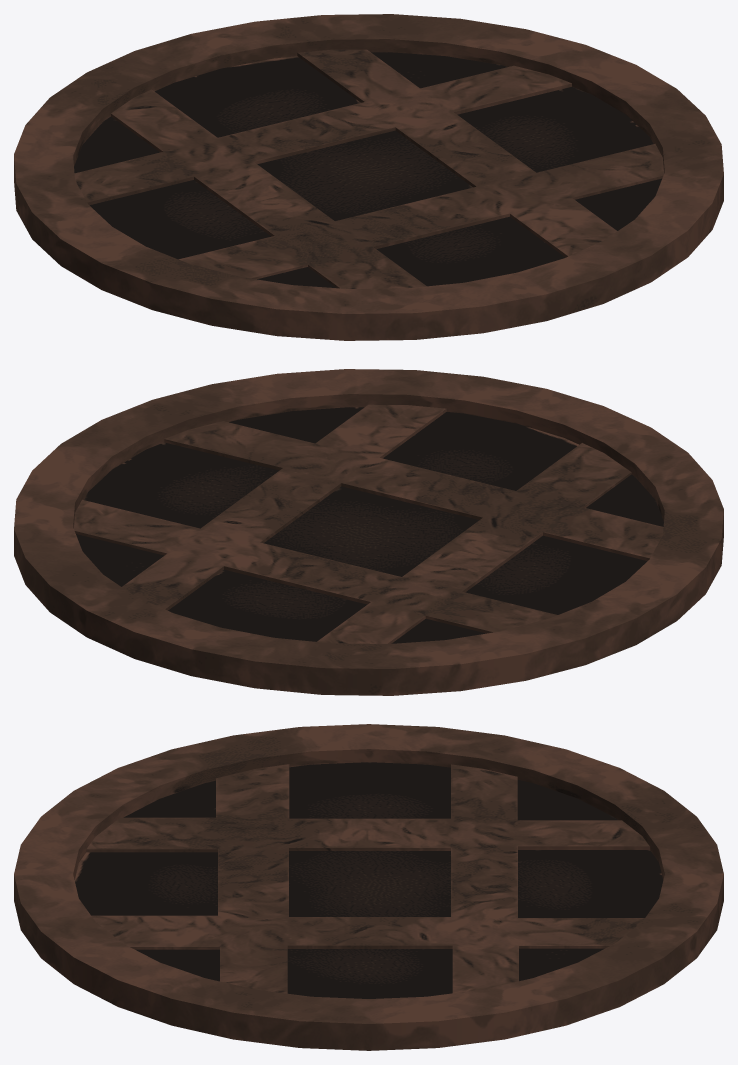
File: krata.obj
3 renders of one model, top to bottom at view 1: azimuth 30°, elevation 25°; view 2: azimuth 150°, elevation 25°; view 3: azimuth 270°, elevation 25°, orthographic.
Parts seen in each view (by area): view 1: Cylinder.009; view 2: Cylinder.009; view 3: Cylinder.009.
Part boxes in pixels (box(x1,y1,x2,y2)): Cylinder.009: box(14, 14, 723, 340); Cylinder.009: box(14, 369, 723, 695); Cylinder.009: box(14, 724, 723, 1050).
Bounding box in the file's own units: 12 × 0.5 × 12.
Materials: 1 (1 with a texture image).
